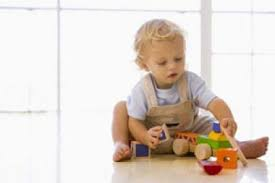child: (105, 18, 270, 171)
